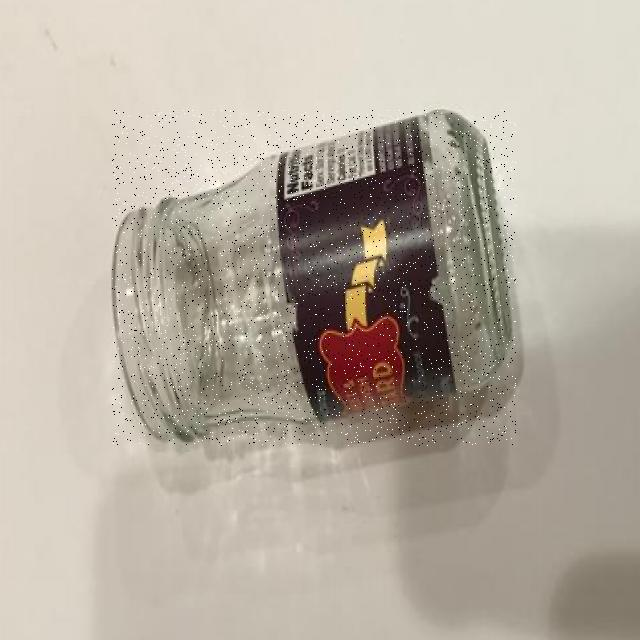glass: (112, 110, 516, 446)
